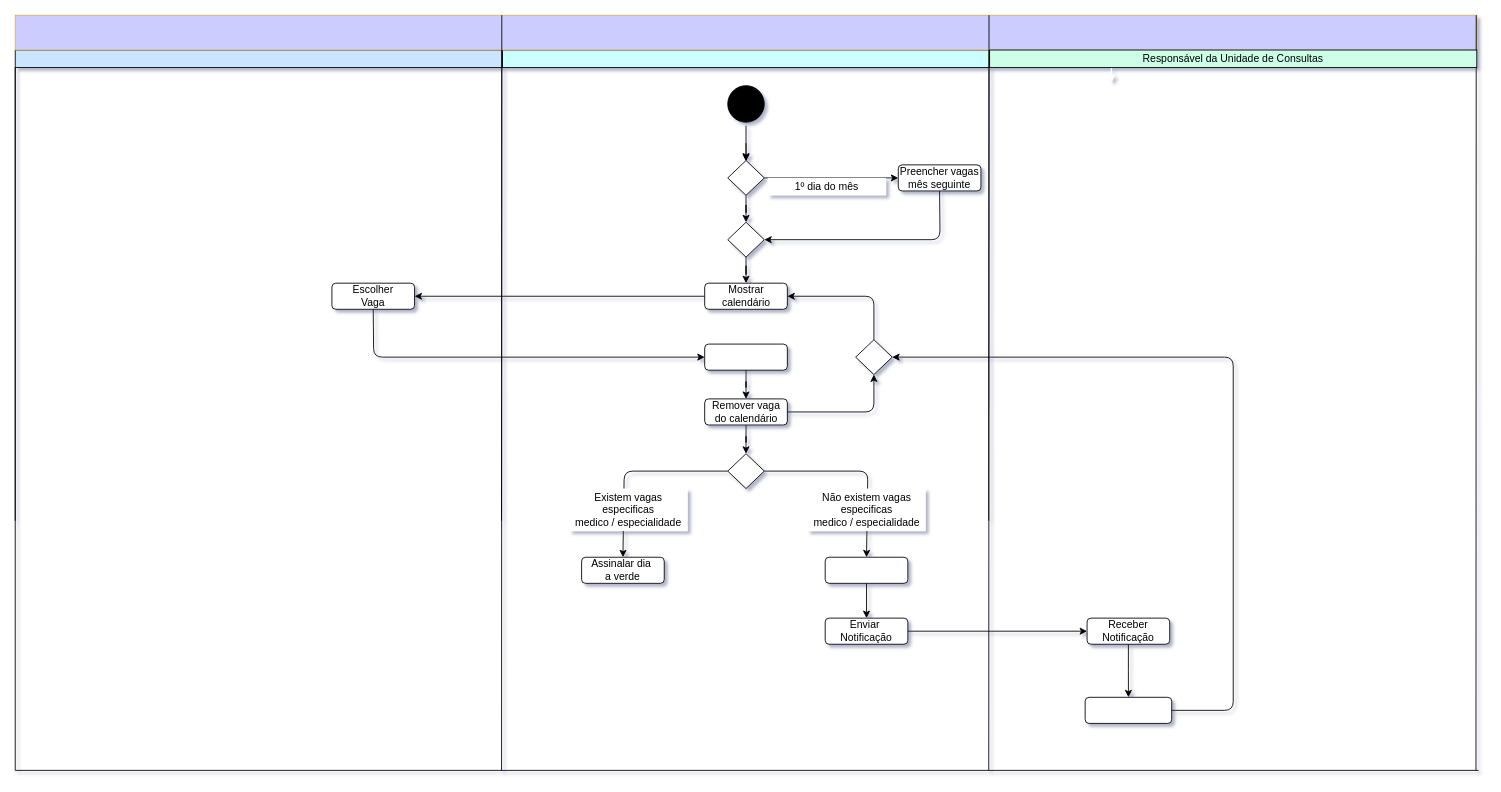
Image size: 1501x792. Some labels were removed from this diagram. Each missing label, with the box of its shape:
Abertura de vagas extra: (1084, 696, 1172, 723)
Assinalar dia a vermelho: (824, 556, 908, 583)
Marcar Consulta: (704, 343, 787, 370)
Níveis de Marcação para Médico e para Especialidade: (14, 14, 1477, 50)
Sistema: (502, 49, 990, 67)
Utente: (14, 49, 502, 67)
